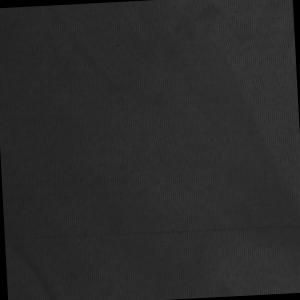Wrinkle: (163, 1, 300, 252), (42, 3, 127, 103), (5, 220, 73, 300)
